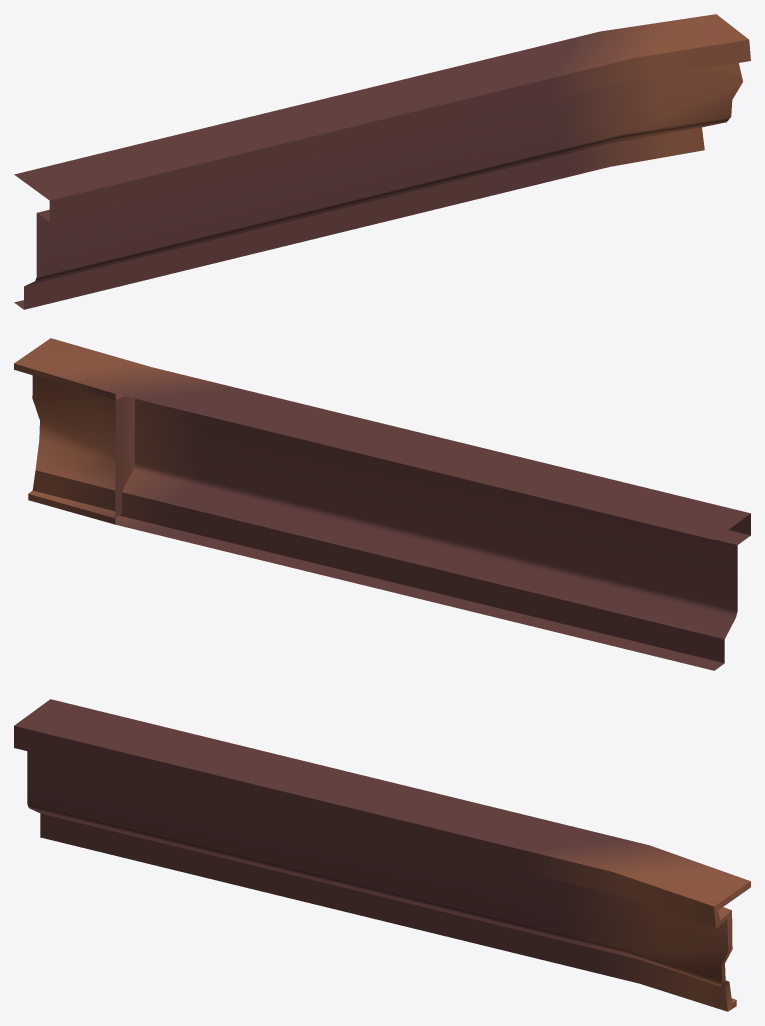
File: DBK_Trim_A_End.fbx
The picture shows the model from 3 angles, top to bottom: view 1: azimuth 30°, elevation 25°; view 2: azimuth 150°, elevation 25°; view 3: azimuth 330°, elevation 25°; orthographic projection. The views are drawn at different scales.
Parts seen in each view (by area): view 1: DBK_Trim_A_End; view 2: DBK_Trim_A_End; view 3: DBK_Trim_A_End.
Part boxes in pixels (x1=…): DBK_Trim_A_End: x1=14, y1=14, x2=750, y2=309; DBK_Trim_A_End: x1=14, y1=338, x2=750, y2=670; DBK_Trim_A_End: x1=14, y1=699, x2=750, y2=1011.
Bounding box in the file's own units: 149 × 26.75 × 15.93.
